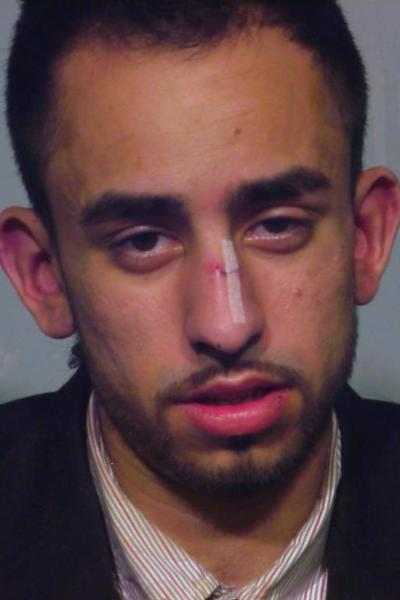Drunk: (53, 47, 355, 474)
